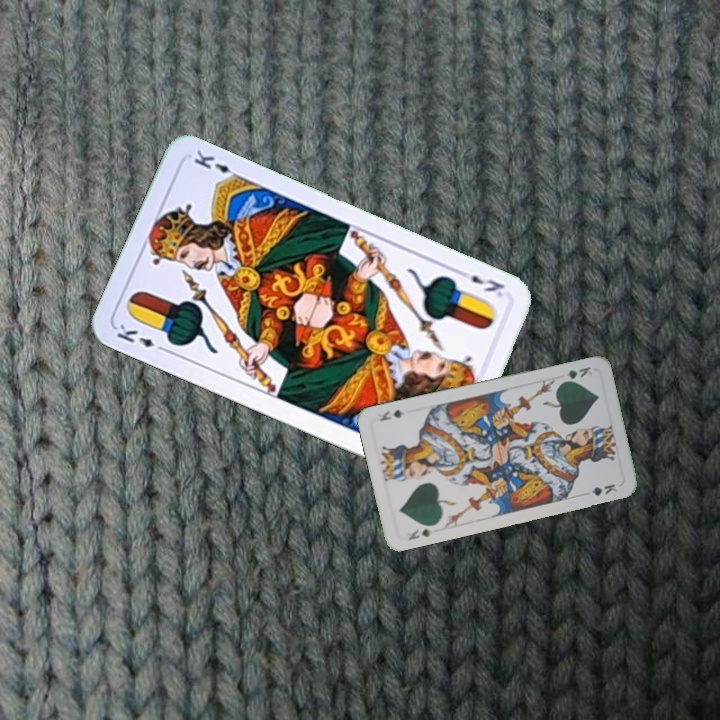EK: (112, 320, 170, 355), (455, 266, 507, 300)
GK: (557, 363, 595, 385), (404, 524, 436, 543)
